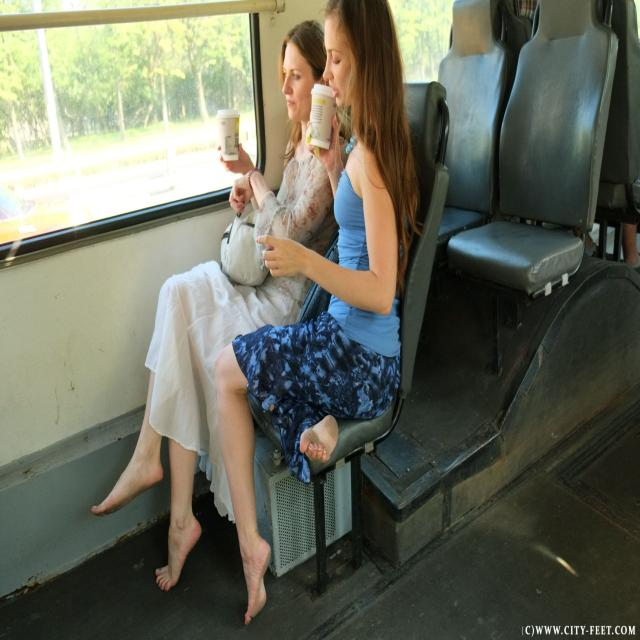Barefoots: (91, 456, 164, 516), (156, 514, 202, 592), (245, 538, 271, 625), (300, 415, 338, 463)
